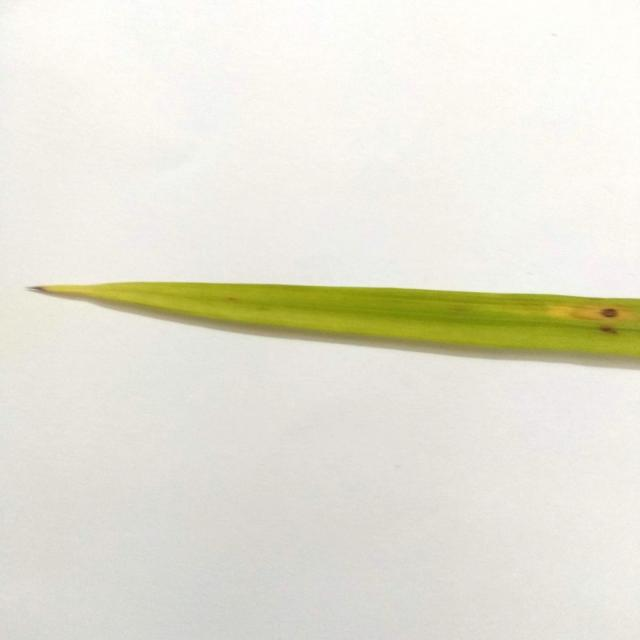Brown spot: (20, 252, 640, 415)
